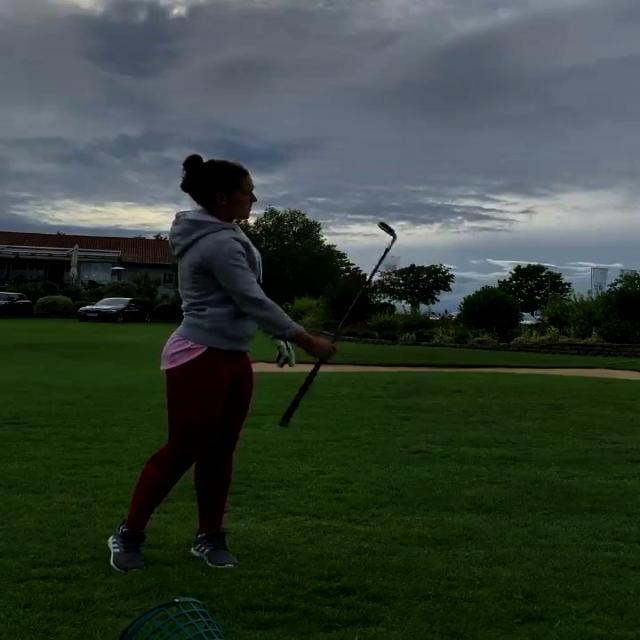golf club-handle: (278, 219, 401, 429)
golf club-head: (377, 221, 395, 237)
